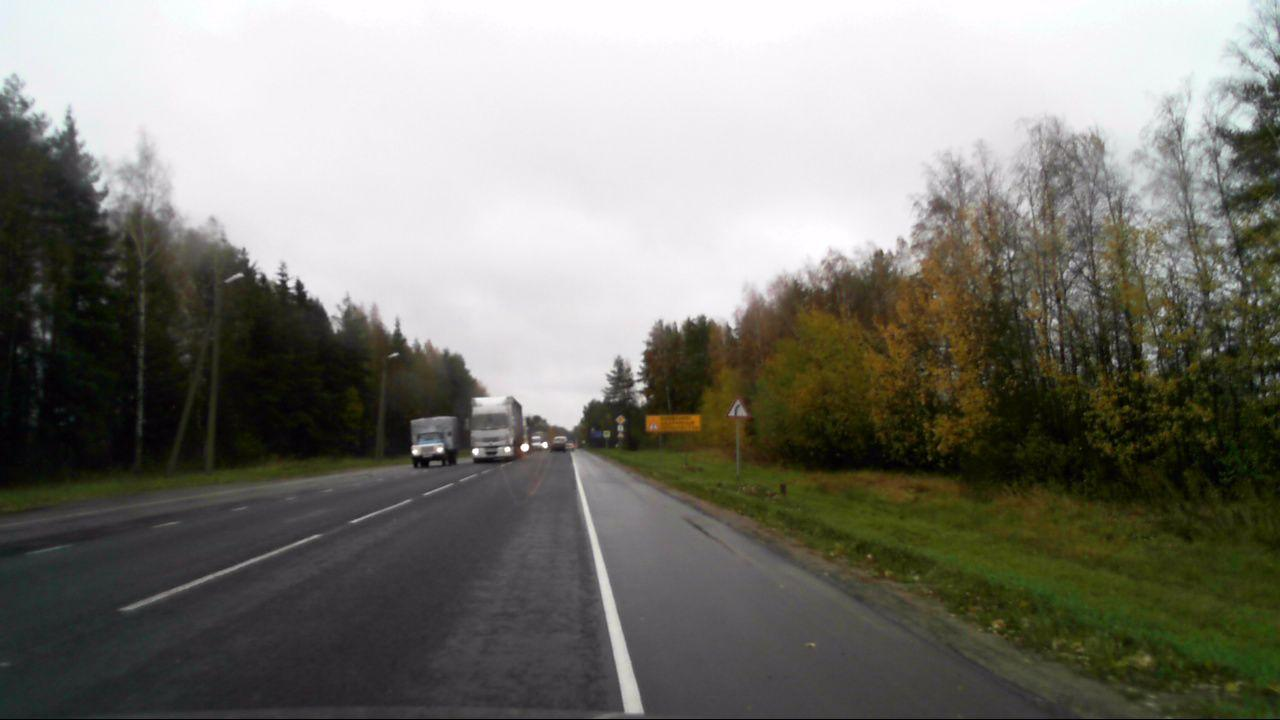1_11_1: (726, 399, 752, 422)
